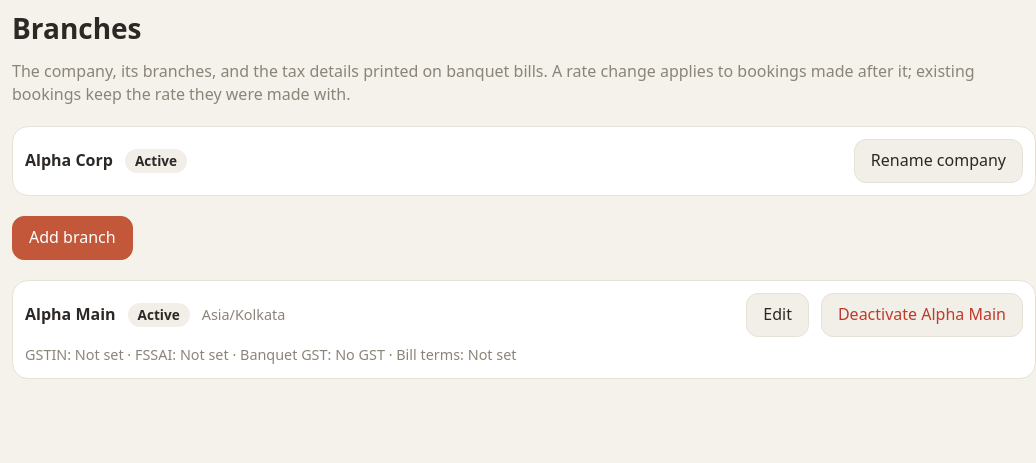
it: Company and branch management › deactivates a branch only after a confirmation
The image size is (1036, 463).
Click the button "Deactivate Alpha Main".
click(922, 315)  # box [821,293,1023,337]
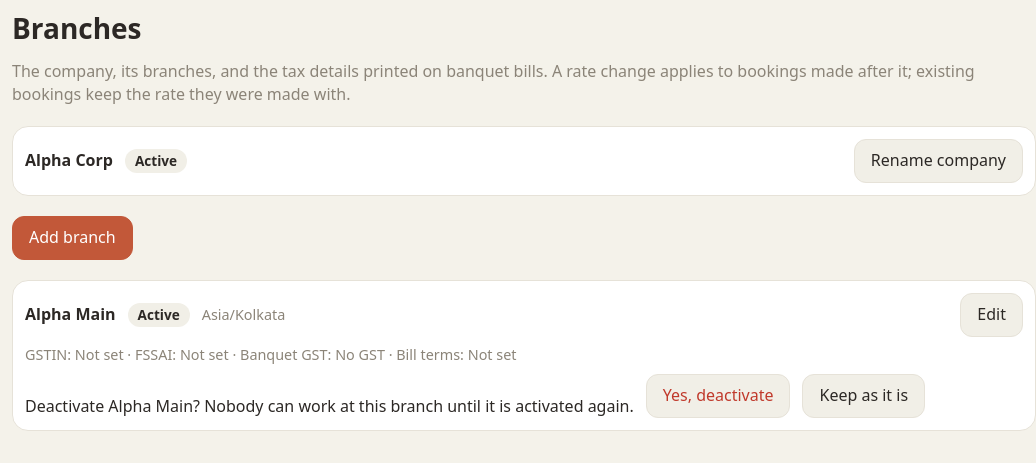
Click the button "Yes, deactivate".
click(718, 396)  # box [646,374,790,418]
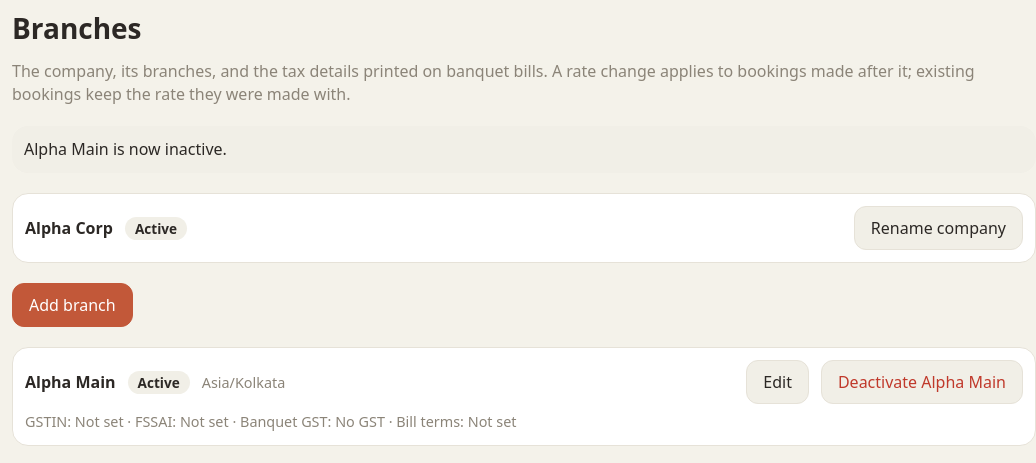
Check: the text "Alpha Main is now inactive." is shown, box [12,126,1035,173]
